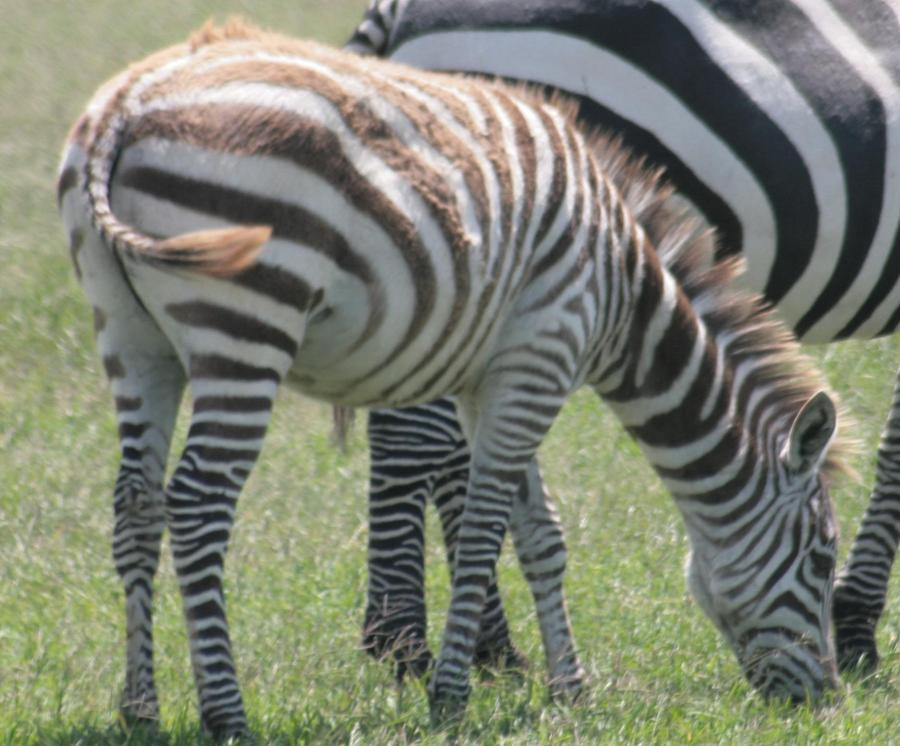zebra_plains: (139, 83, 649, 423)
